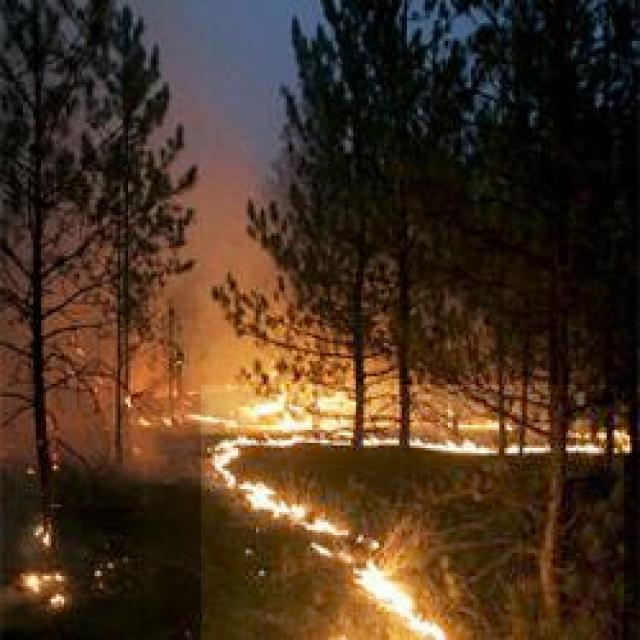Fire: (201, 385, 624, 640)
